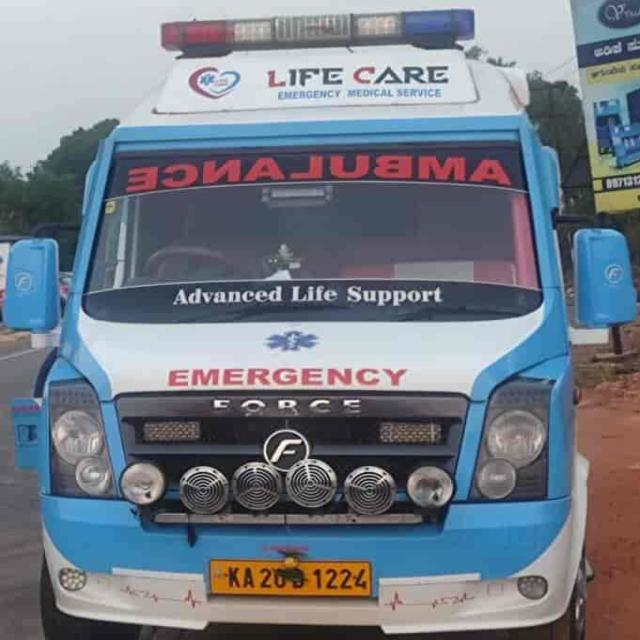emergency: (5, 10, 588, 640)
